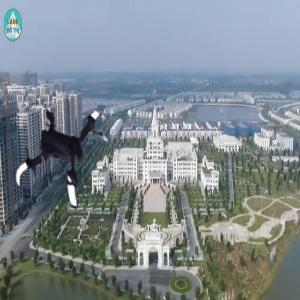drone: (4, 89, 127, 212)
